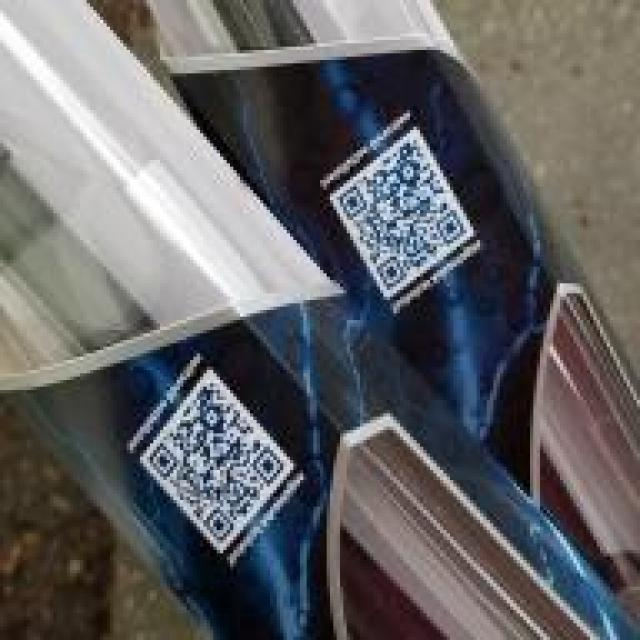qr_code: (148, 380, 285, 542), (337, 137, 466, 291)
